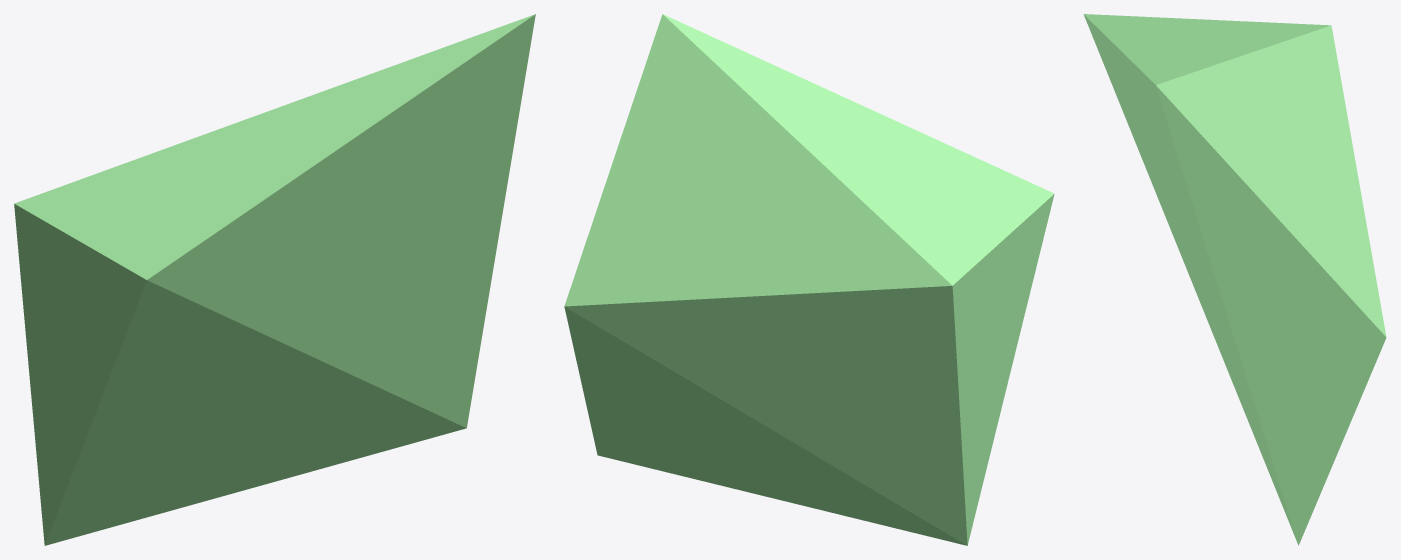
The model's file is dvkr_robot_Lp11_respondable_PSM1_coll_8.dae.
The picture shows the model from 3 angles, left to right: view 1: azimuth 30°, elevation 25°; view 2: azimuth 150°, elevation 25°; view 3: azimuth 270°, elevation 25°; orthographic projection. The views are drawn at different scales.
Visible parts, largest first — view 1: Node_0000023514CD84E0; view 2: Node_0000023514CD84E0; view 3: Node_0000023514CD84E0.
Part boxes in pixels (left/top/right/bottom): Node_0000023514CD84E0: left=14, top=14, right=535, bottom=545; Node_0000023514CD84E0: left=564, top=14, right=1054, bottom=545; Node_0000023514CD84E0: left=1083, top=14, right=1386, bottom=545.
Bounding box in the file's own units: 0.0132 × 0.0138 × 0.00811.
